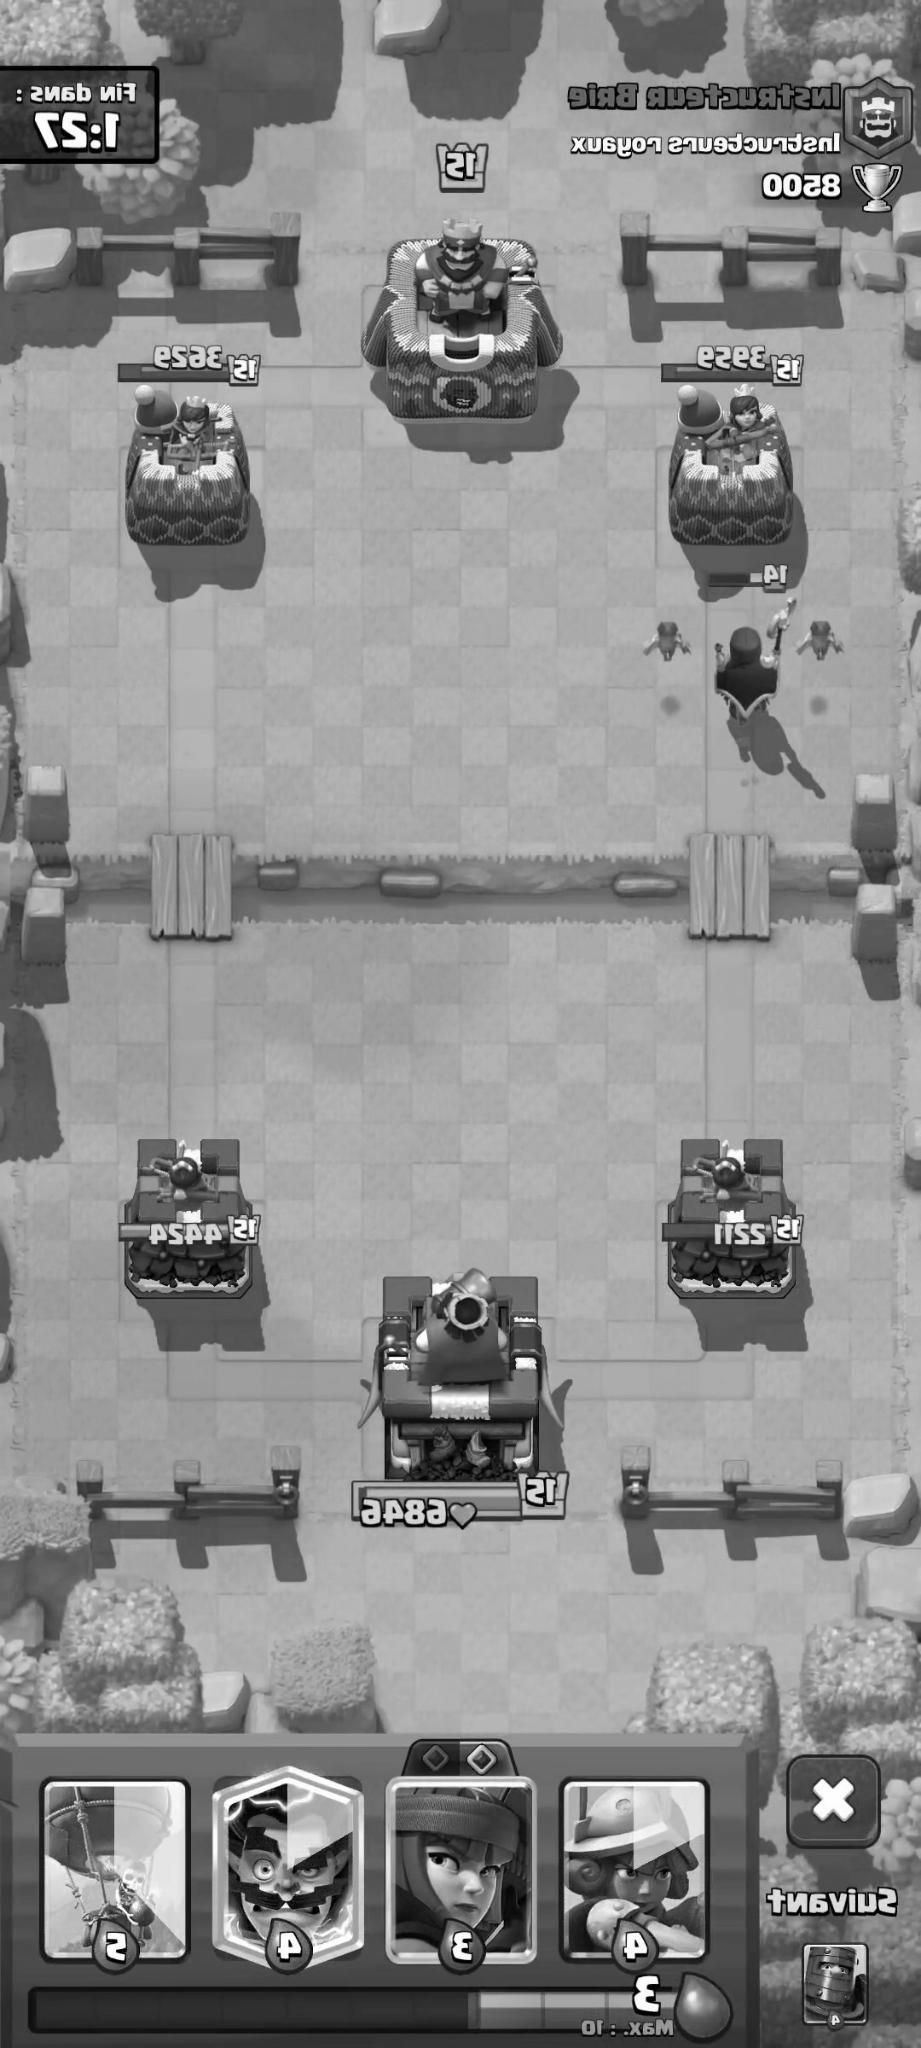bat: (792, 600, 852, 669), (634, 615, 696, 673)
